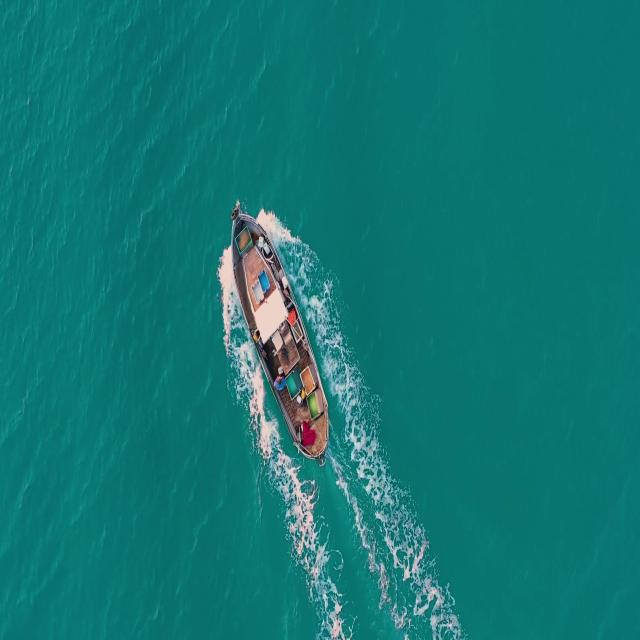ship: (228, 202, 335, 458)
